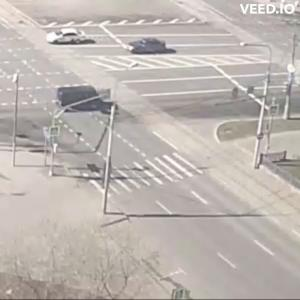car: (56, 81, 112, 110), (126, 40, 177, 57), (47, 30, 93, 46)
